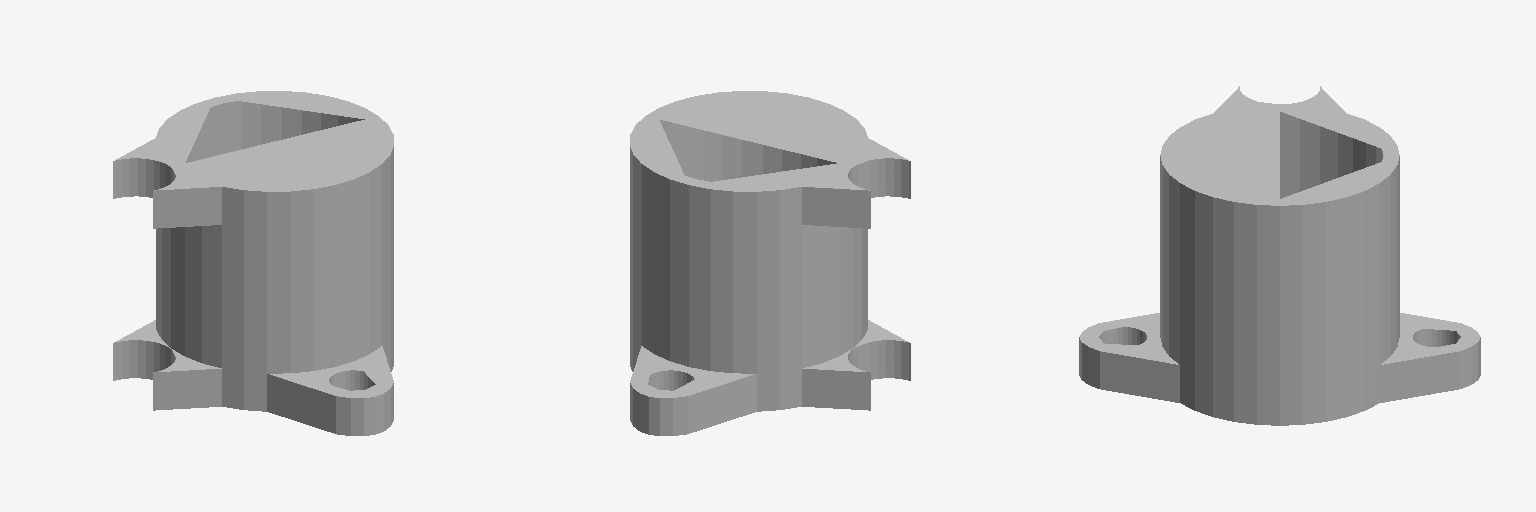
The model's file is XLR_Halterung_2.obj.
3 views of the same model, side by side, from view 1: azimuth 30°, elevation 25°; view 2: azimuth 150°, elevation 25°; view 3: azimuth 270°, elevation 25° (orthographic).
Parts seen in each view (by area): view 1: Cylinder_Cylinder.010; view 2: Cylinder_Cylinder.010; view 3: Cylinder_Cylinder.010.
Boxes of the visible parts, x1,y1,x2,y2 form: Cylinder_Cylinder.010: [113, 91, 393, 435]; Cylinder_Cylinder.010: [630, 91, 910, 435]; Cylinder_Cylinder.010: [1079, 86, 1480, 425].
Bounding box in the file's own units: 0.0175 × 0.015 × 0.0248.